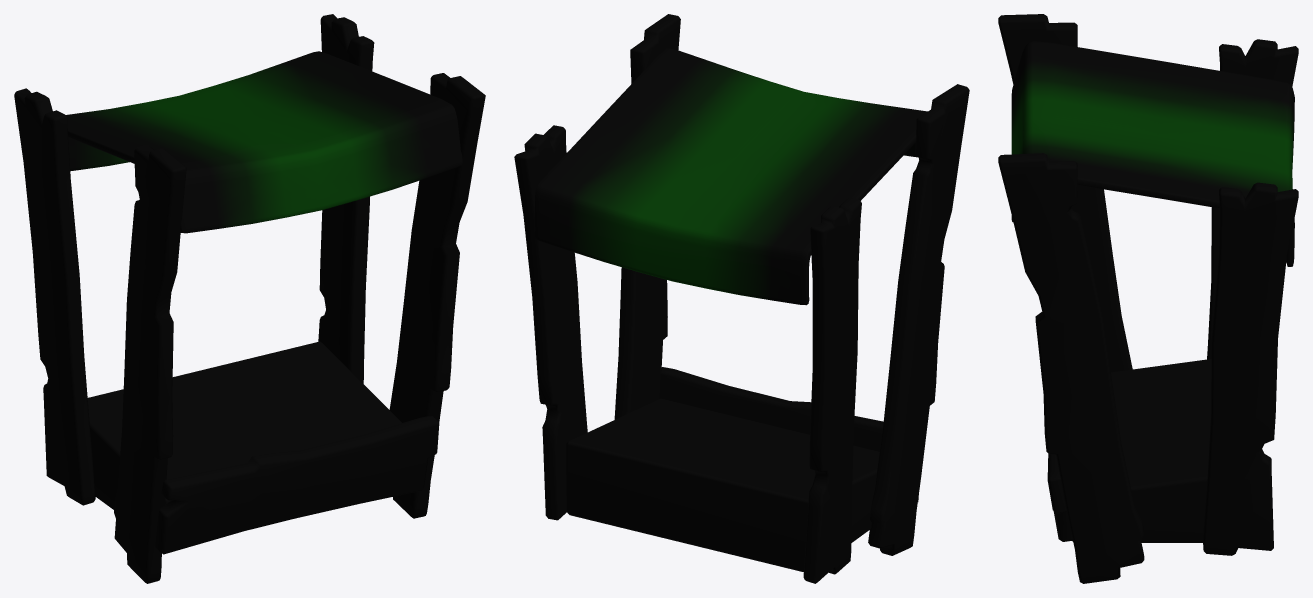
The model's file is marketStand_mesh.fbx.
3 views of the same model, side by side, from view 1: azimuth 30°, elevation 25°; view 2: azimuth 150°, elevation 25°; view 3: azimuth 270°, elevation 25° (orthographic). The views are drawn at different scales.
Visible parts, largest first — view 1: dada1; view 2: dada1; view 3: dada1.
Boxes of the visible parts, left/top/right/bottom form: dada1: left=14, top=14, right=485, bottom=583; dada1: left=514, top=14, right=969, bottom=583; dada1: left=998, top=14, right=1298, bottom=583.
Bounding box in the file's own units: 2.65 × 3.55 × 2.23.
